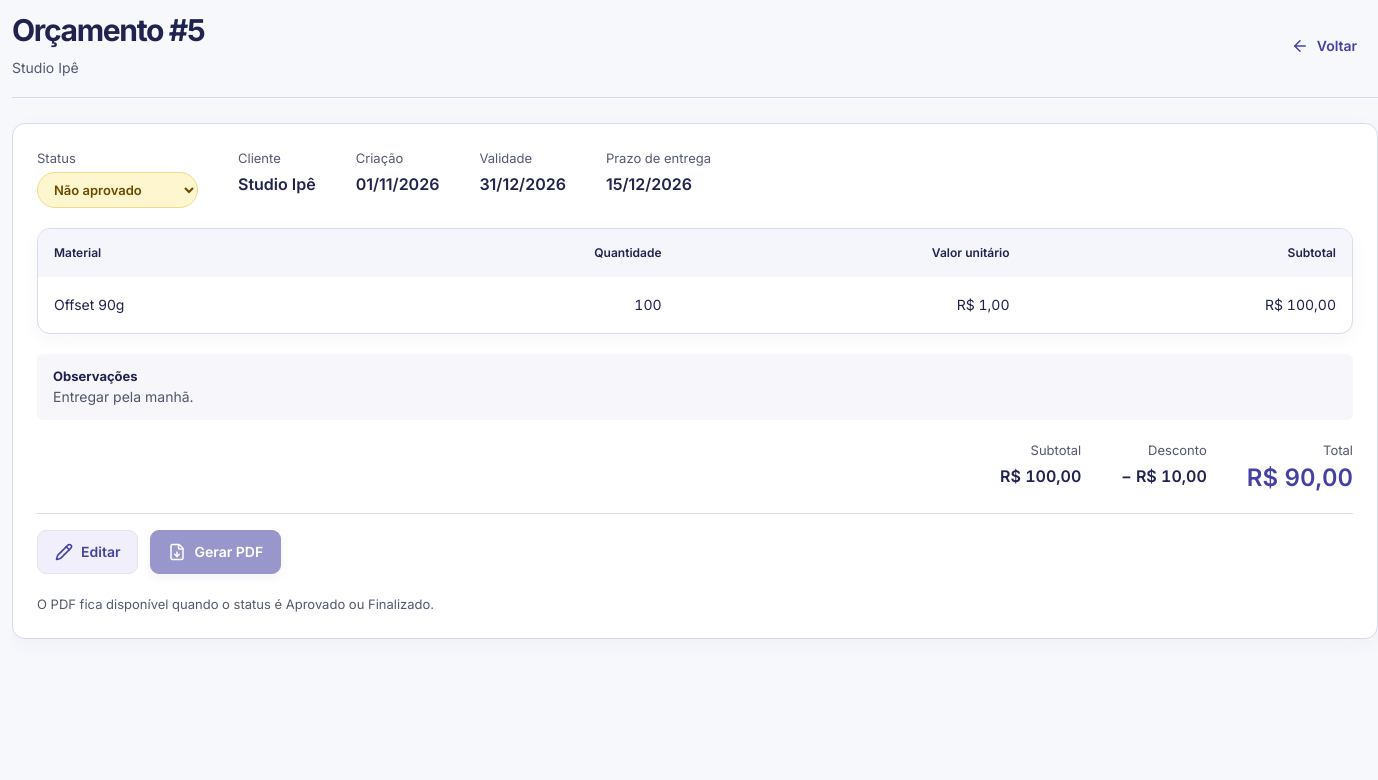
Test case: Detalhe do orçamento › avisa quando outra pessoa alterou o orçamento
Select "Aprovado" in the dropdown named "Status do orçamento 5" at (118, 190), box [37, 172, 198, 208]
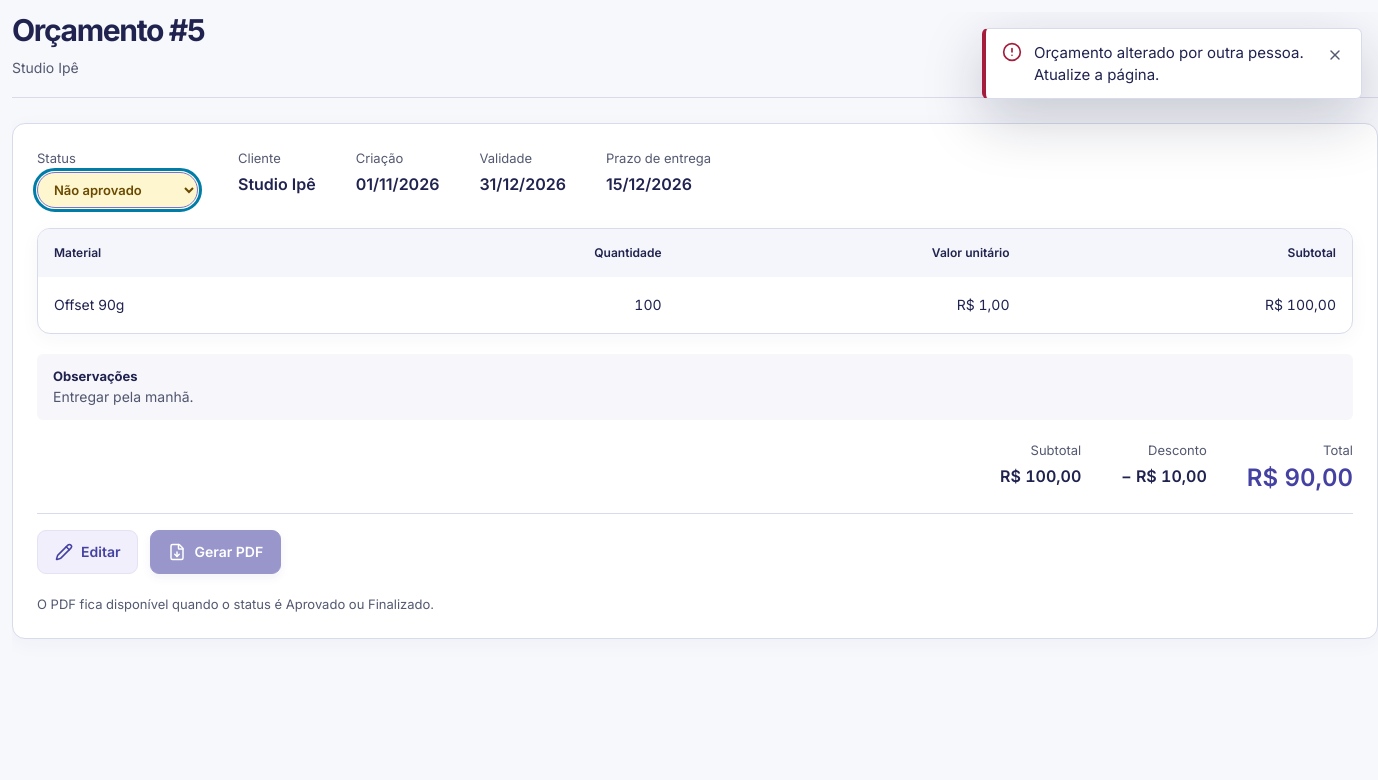
expect the message shows "alterado por outra pessoa": met, box [1034, 43, 1304, 84]
